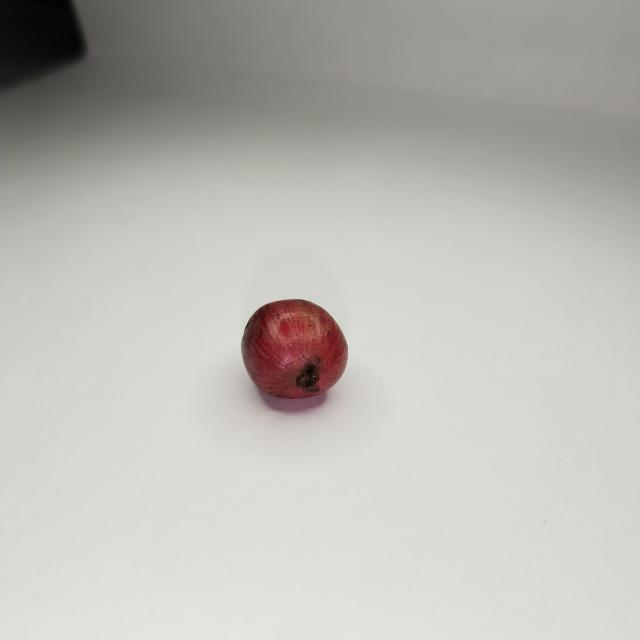Infectado: (241, 300, 347, 397)
